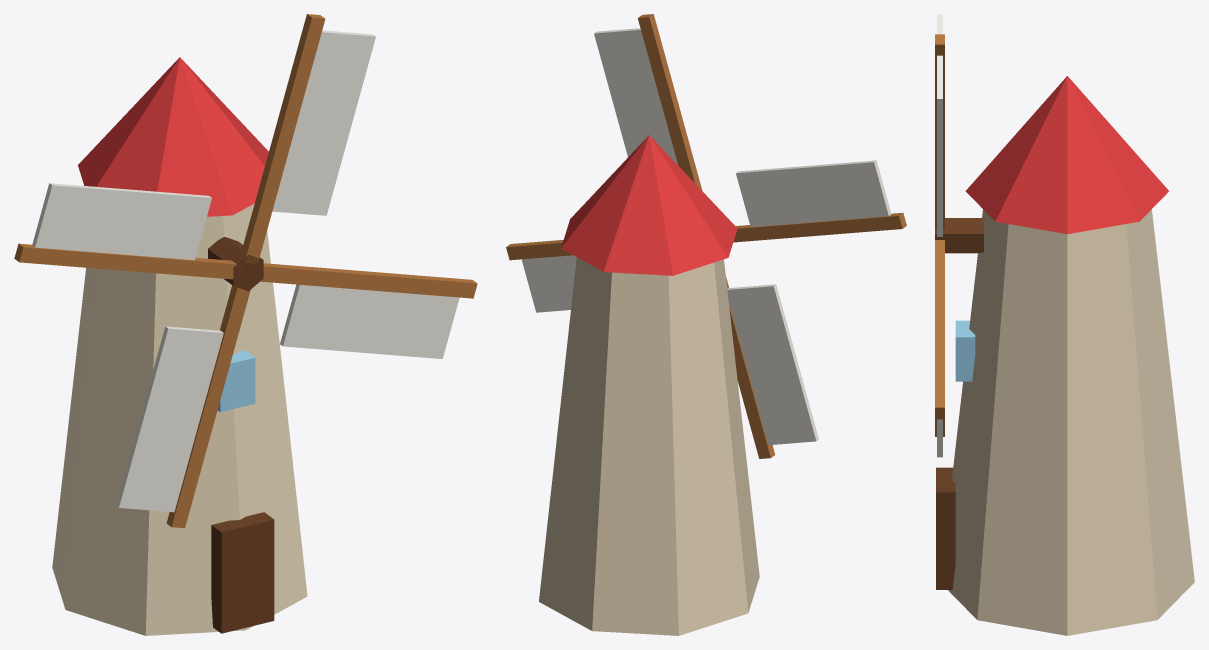
Rendered from Windmill.fbx.
The picture shows the model from 3 angles, left to right: view 1: azimuth 30°, elevation 25°; view 2: azimuth 150°, elevation 25°; view 3: azimuth 270°, elevation 25°; orthographic projection. The views are drawn at different scales.
Visible parts, largest first — view 1: Windmill; view 2: Windmill; view 3: Windmill.
Part boxes in pixels (box(x1,y1,x2,y2)): Windmill: box(14, 14, 477, 635); Windmill: box(506, 14, 906, 635); Windmill: box(935, 14, 1194, 635).
Bounding box in the file's own units: 7.81 × 9.75 × 3.97.
Materials: 1 (1 with a texture image).
